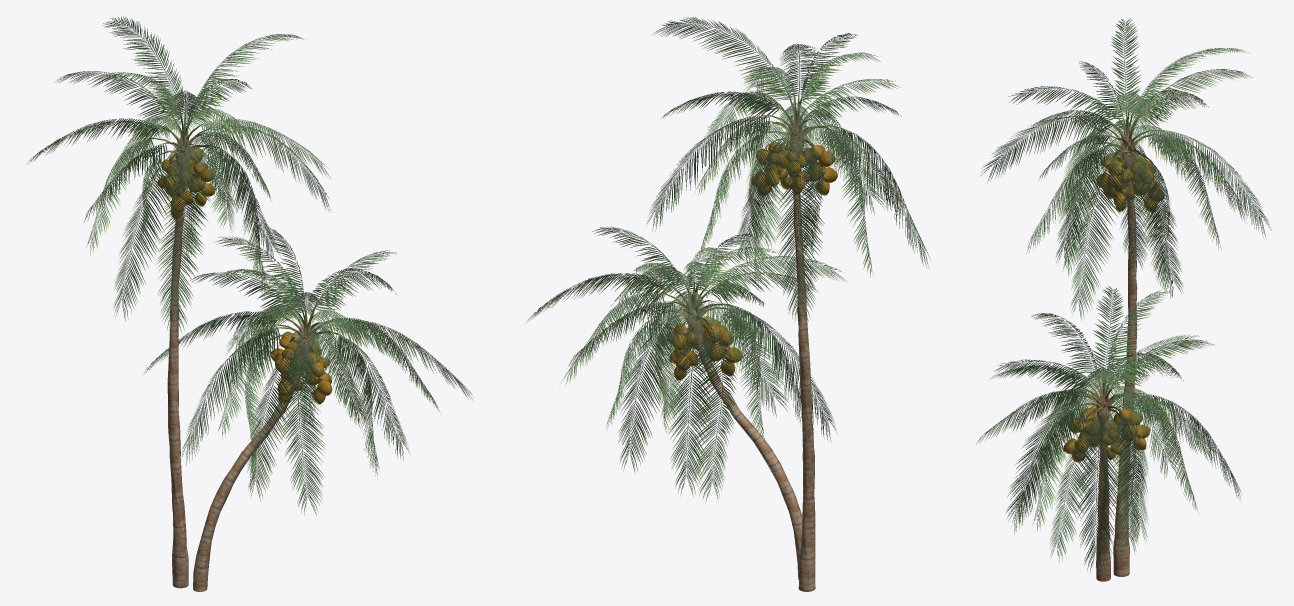
File: coconut-palm.glb
3 views of the same model, side by side, from view 1: azimuth 30°, elevation 25°; view 2: azimuth 150°, elevation 25°; view 3: azimuth 270°, elevation 25° (orthographic). The views are drawn at different scales.
Visible parts, largest first — view 1: fronds, trunk, nuts, crown; view 2: fronds, trunk, nuts, crown; view 3: fronds, trunk, nuts, crown, fibre.
Part boxes in pixels (x1,y1,x2,y2): fronds: (26,16,473,515); trunk: (167,186,306,591); nuts: (157,148,332,404); crown: (145,100,343,381); fronds: (525,17,929,503); trunk: (691,167,815,591); nuts: (666,142,837,380); crown: (658,88,842,359); fronds: (976,18,1271,573); trunk: (1096,174,1137,581); nuts: (1063,149,1164,462); crown: (1074,108,1162,447); fibre: (1097,133,1136,421).
Size of the model in its own units: 5.77 by 7.65 by 4.16.
Materials: 5 (5 with a texture image).
